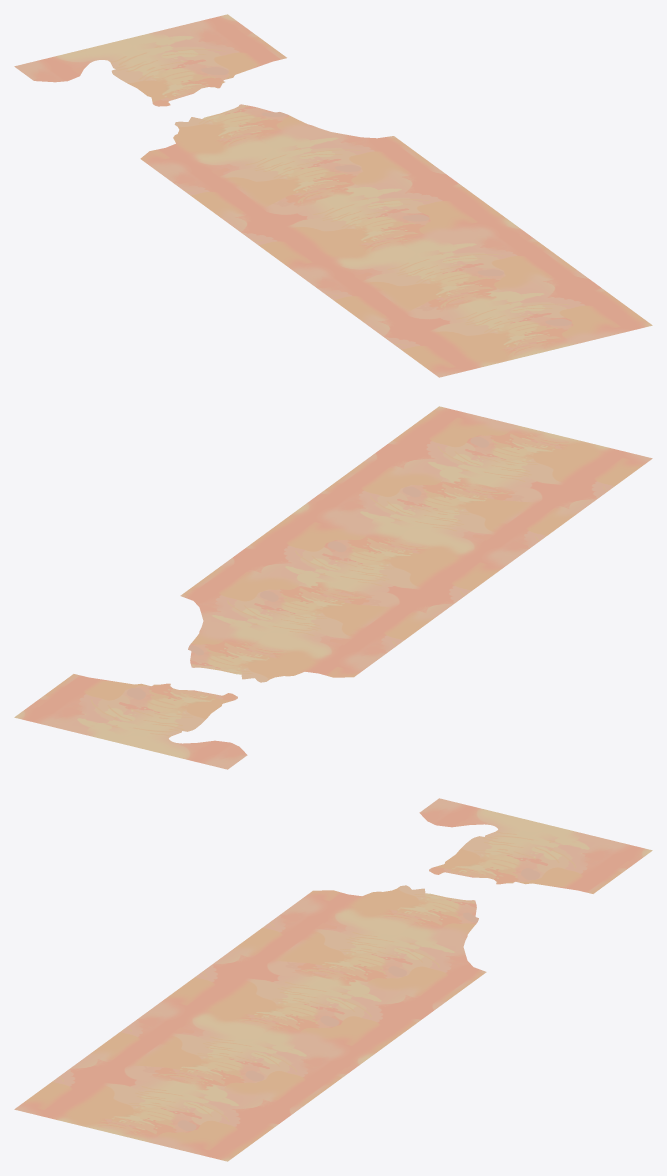
Rendered from Mesh_Adventure_Canyon_Variant_Terrain_04.fbx.
3 renders of one model, top to bottom at view 1: azimuth 30°, elevation 25°; view 2: azimuth 150°, elevation 25°; view 3: azimuth 330°, elevation 25°, orthographic.
Parts seen in each view (by area): view 1: Mesh_Adventure_Canyon_Variant_Terrain_04; view 2: Mesh_Adventure_Canyon_Variant_Terrain_04; view 3: Mesh_Adventure_Canyon_Variant_Terrain_04.
Boxes of the visible parts, box(x1,y1,x2,y2) form: Mesh_Adventure_Canyon_Variant_Terrain_04: box(14, 14, 652, 377); Mesh_Adventure_Canyon_Variant_Terrain_04: box(14, 406, 652, 769); Mesh_Adventure_Canyon_Variant_Terrain_04: box(14, 798, 652, 1161).
Size of the model in its own units: 1016 by 0.000153 by 3500.
